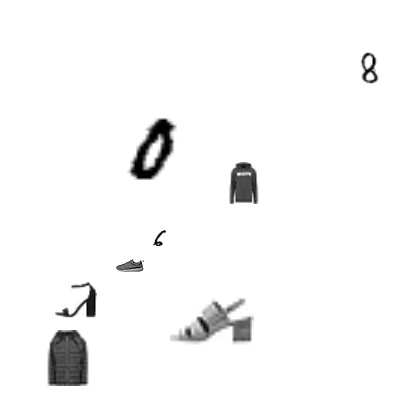0: (110, 107, 194, 191)
6: (148, 228, 170, 250)
8: (347, 47, 389, 89)
Coat: (40, 330, 96, 386)
Pullover: (222, 162, 264, 204)
Sandal: (170, 278, 254, 362), (55, 278, 97, 320)
Sneaker: (116, 251, 144, 279)
